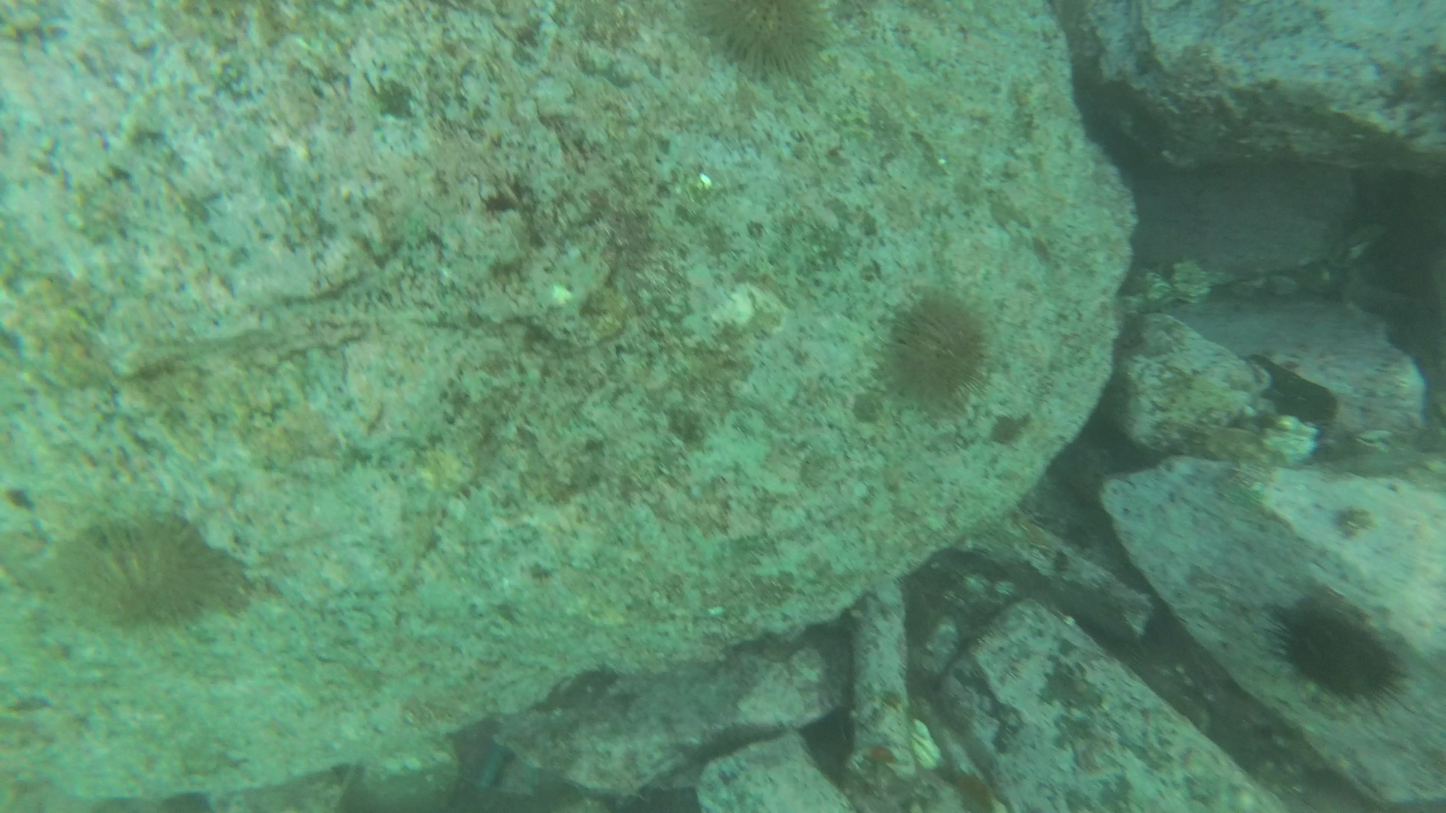starfish: (56, 524, 233, 625), (1264, 595, 1403, 708), (884, 287, 990, 407), (694, 2, 827, 79)
